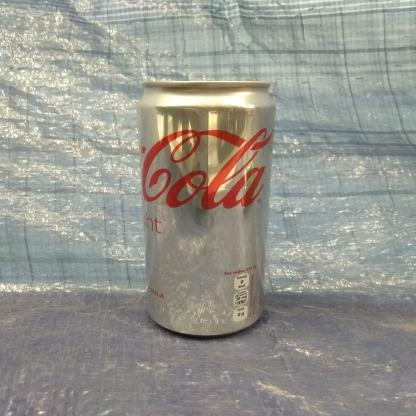bottle: (133, 74, 280, 344)
